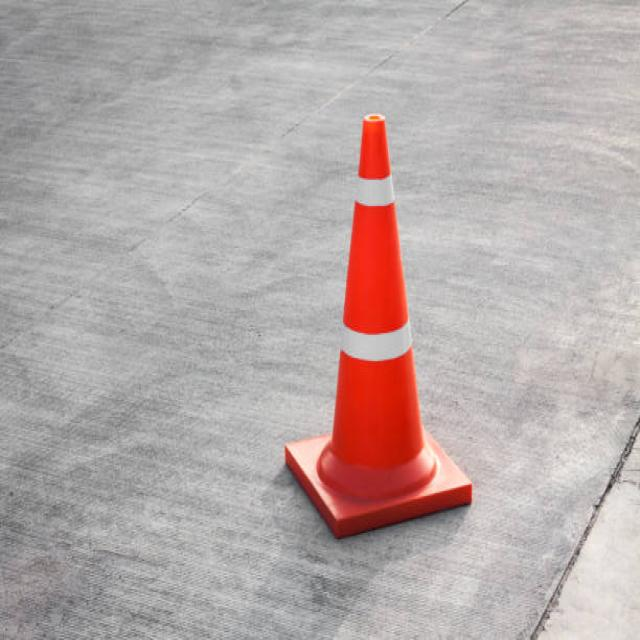Traffic Cone: (264, 89, 486, 564)
